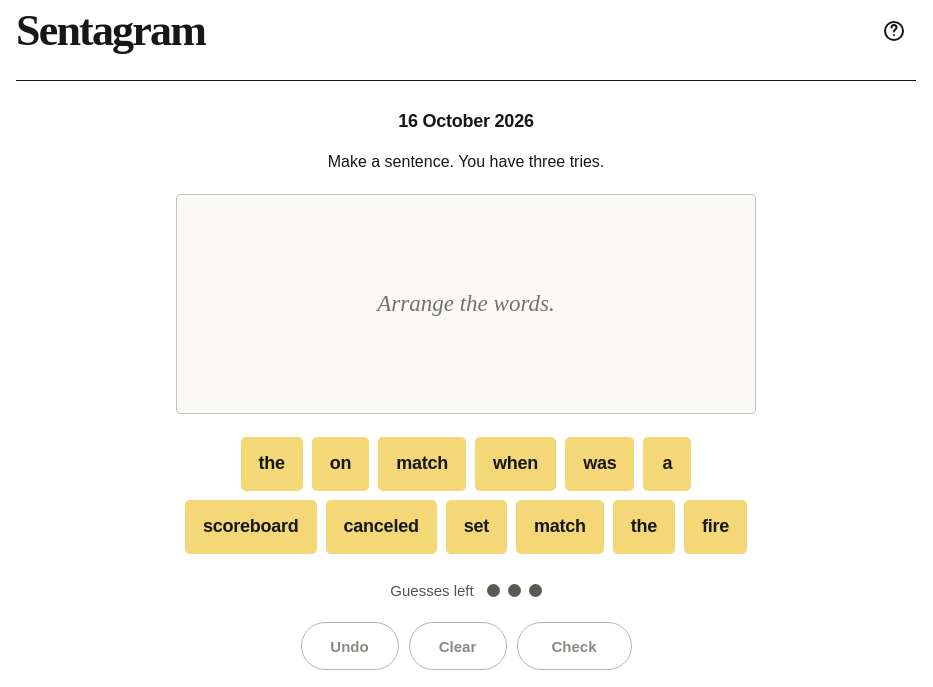
it: daily game interface › refreshes a sleeping tab when visible again, and rejects a stale-day click before its timer runs
The image size is (933, 687).
Check: the heading "16 October 2026" is shown, box [398,111,534,131]
Click the button with aria-label "Add scoreboard to sentence" at coordinates (251, 527), box [185,500,316,554]
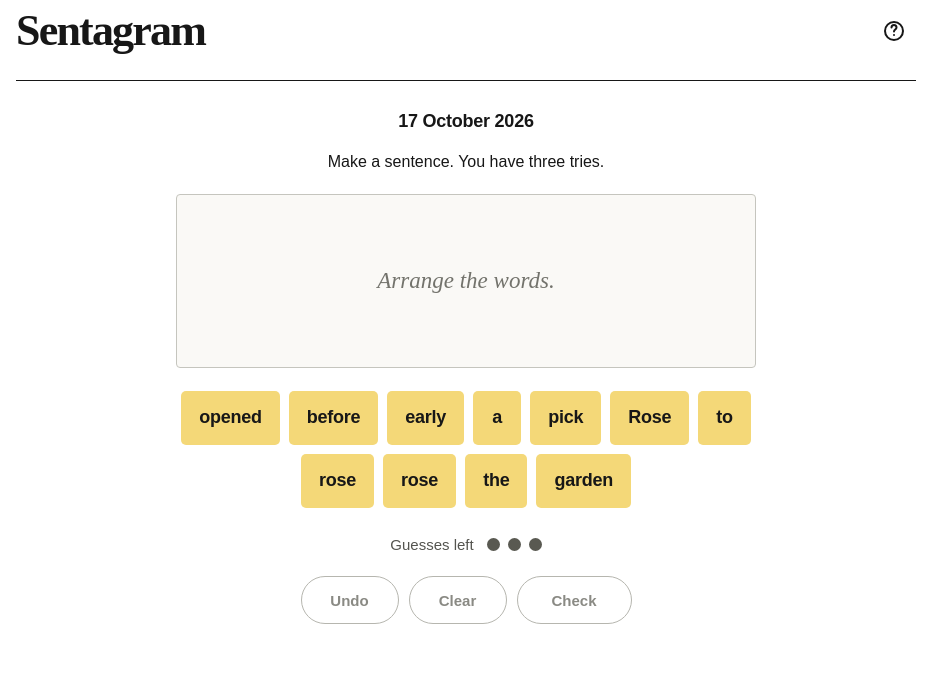
Check: the text "Arrange the words." is shown, box [377,268,555,293]
Check: the heading "17 October 2026" is shown, box [398,111,534,131]
